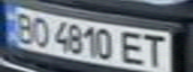0: (93, 26, 118, 61)
1: (81, 24, 97, 57)
4: (48, 19, 72, 52)
8: (66, 21, 84, 55)
B: (6, 10, 39, 44)
E: (118, 29, 151, 66)
O: (27, 15, 54, 47)
T: (139, 32, 172, 70)
